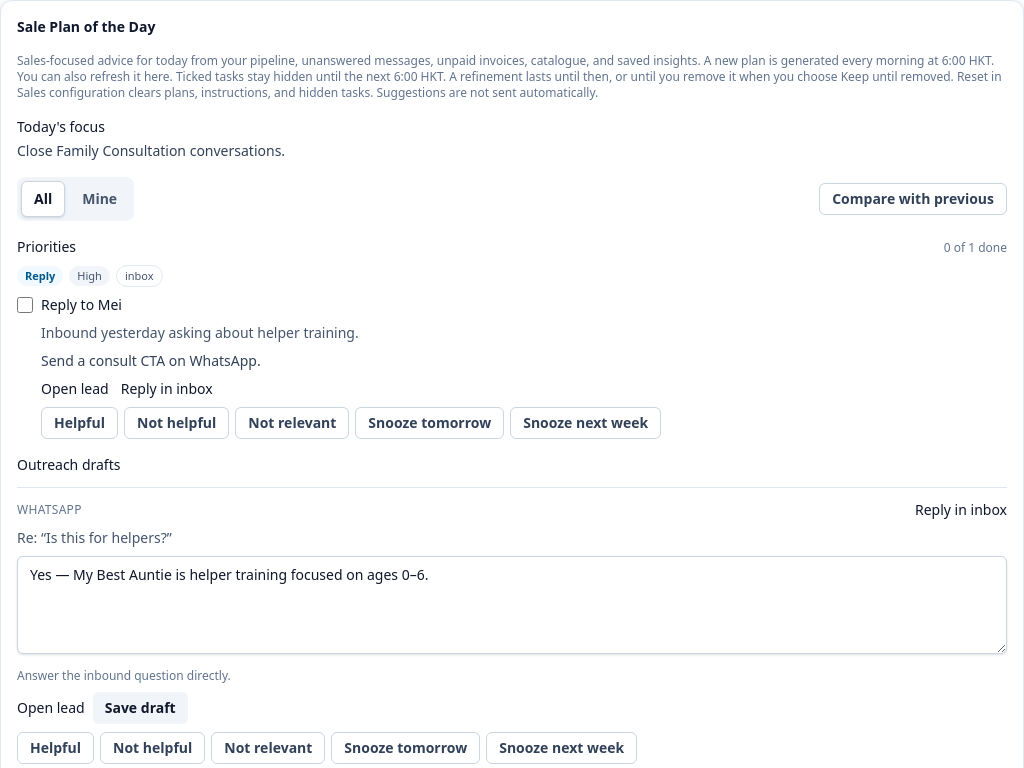
Test: SalePlanOfTheDayCard › surfaces annotation errors
The width and height of the screenshot is (1024, 768).
Click the button "Helpful" below "High": (80, 423) [41, 407, 118, 439]
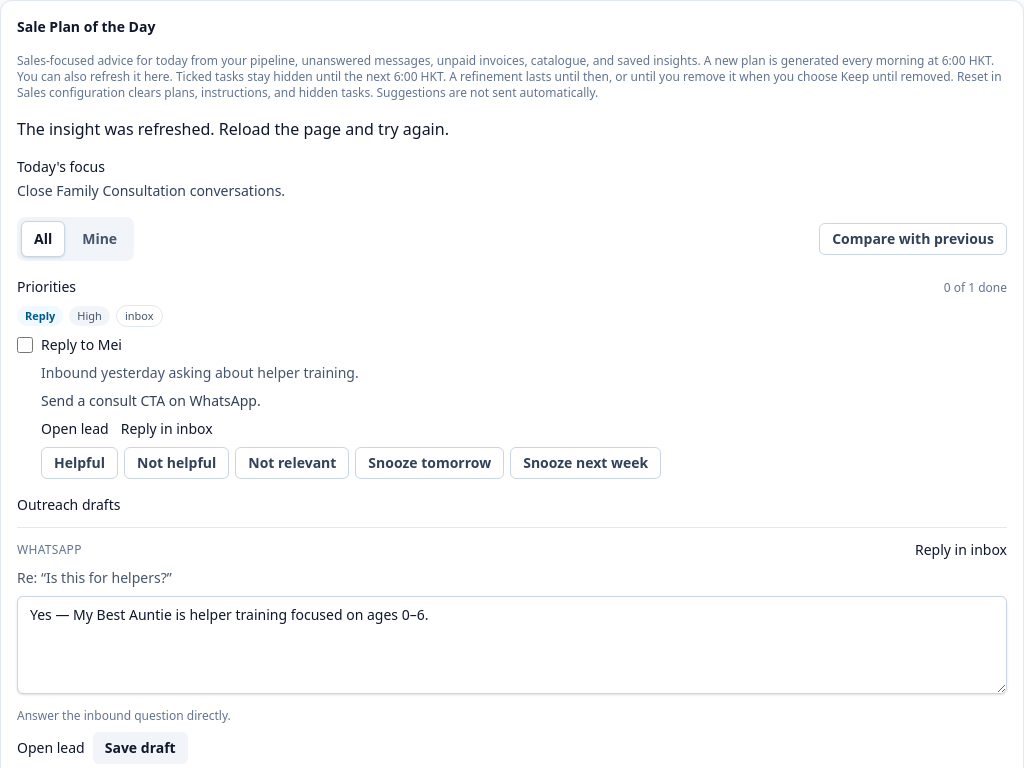
Expected: the text "The insight was refreshed. Reload the page and try again." is shown, [17, 118, 449, 140]
